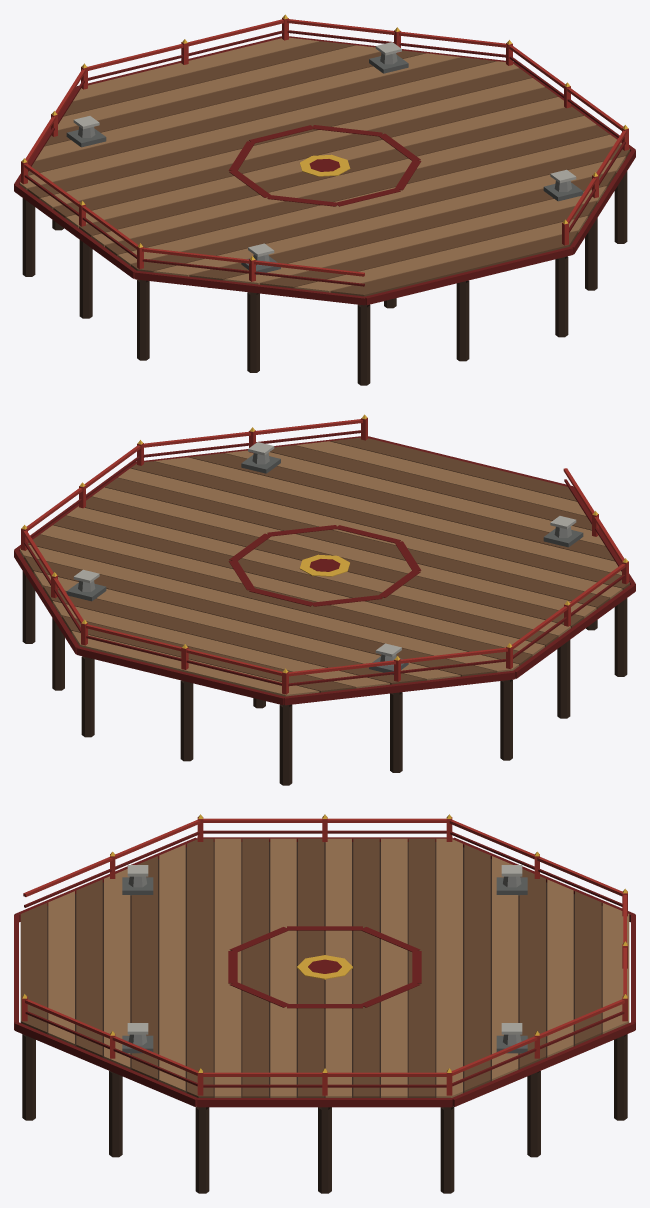
File: lake_arena_platform.fbx
3 renders of one model, top to bottom at view 1: azimuth 30°, elevation 25°; view 2: azimuth 150°, elevation 25°; view 3: azimuth 270°, elevation 25°, orthographic. The views are drawn at different scales.
Parts seen in each view (by area): view 1: lake_arena_platform; view 2: lake_arena_platform; view 3: lake_arena_platform.
Boxes of the visible parts, box(x1,y1,x2,y2) form: lake_arena_platform: box(14, 14, 635, 385); lake_arena_platform: box(14, 414, 635, 785); lake_arena_platform: box(14, 814, 635, 1193).
Bounding box in the file's own units: 19.98 × 4.44 × 19.98.
